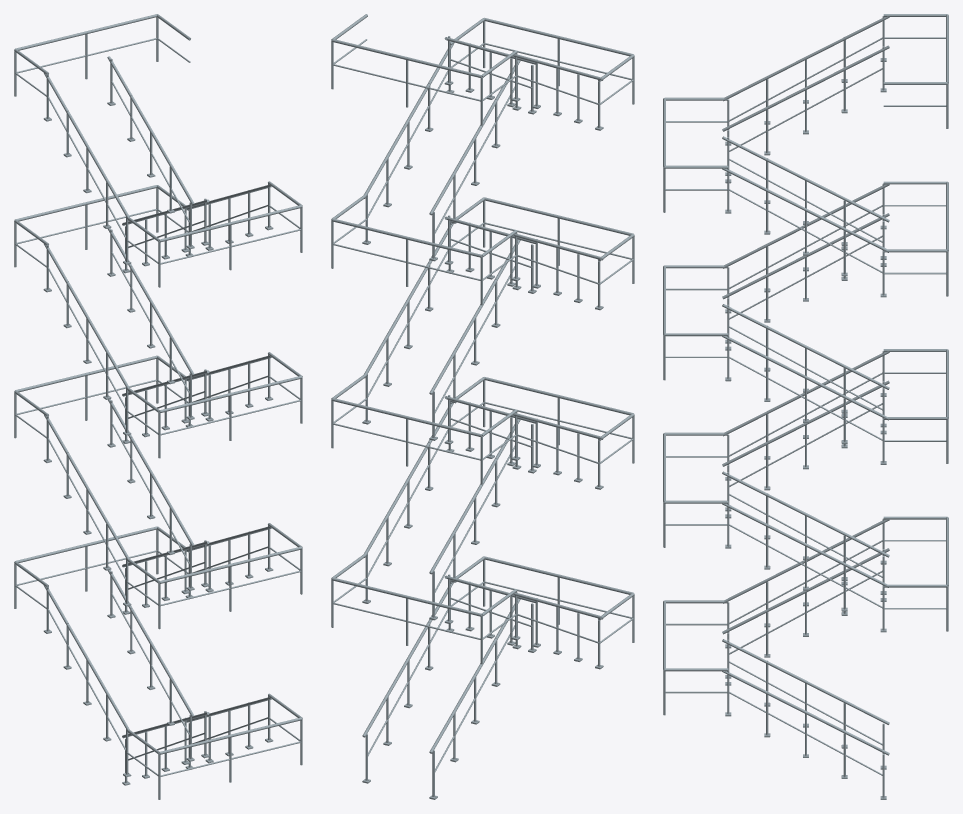
The model's file is TA_VA_Railings.fbx.
3 renders of one model, left to right at view 1: azimuth 30°, elevation 25°; view 2: azimuth 150°, elevation 25°; view 3: azimuth 270°, elevation 25°, orthographic. The views are drawn at different scales.
Visible parts, largest first — view 1: TA_VA_Railings; view 2: TA_VA_Railings; view 3: TA_VA_Railings.
Boxes of the visible parts, <box> form: TA_VA_Railings: <box>14,14,302,799</box>; TA_VA_Railings: <box>331,14,634,799</box>; TA_VA_Railings: <box>663,14,948,799</box>.
Size of the model in its own units: 361 by 1711 by 618.
